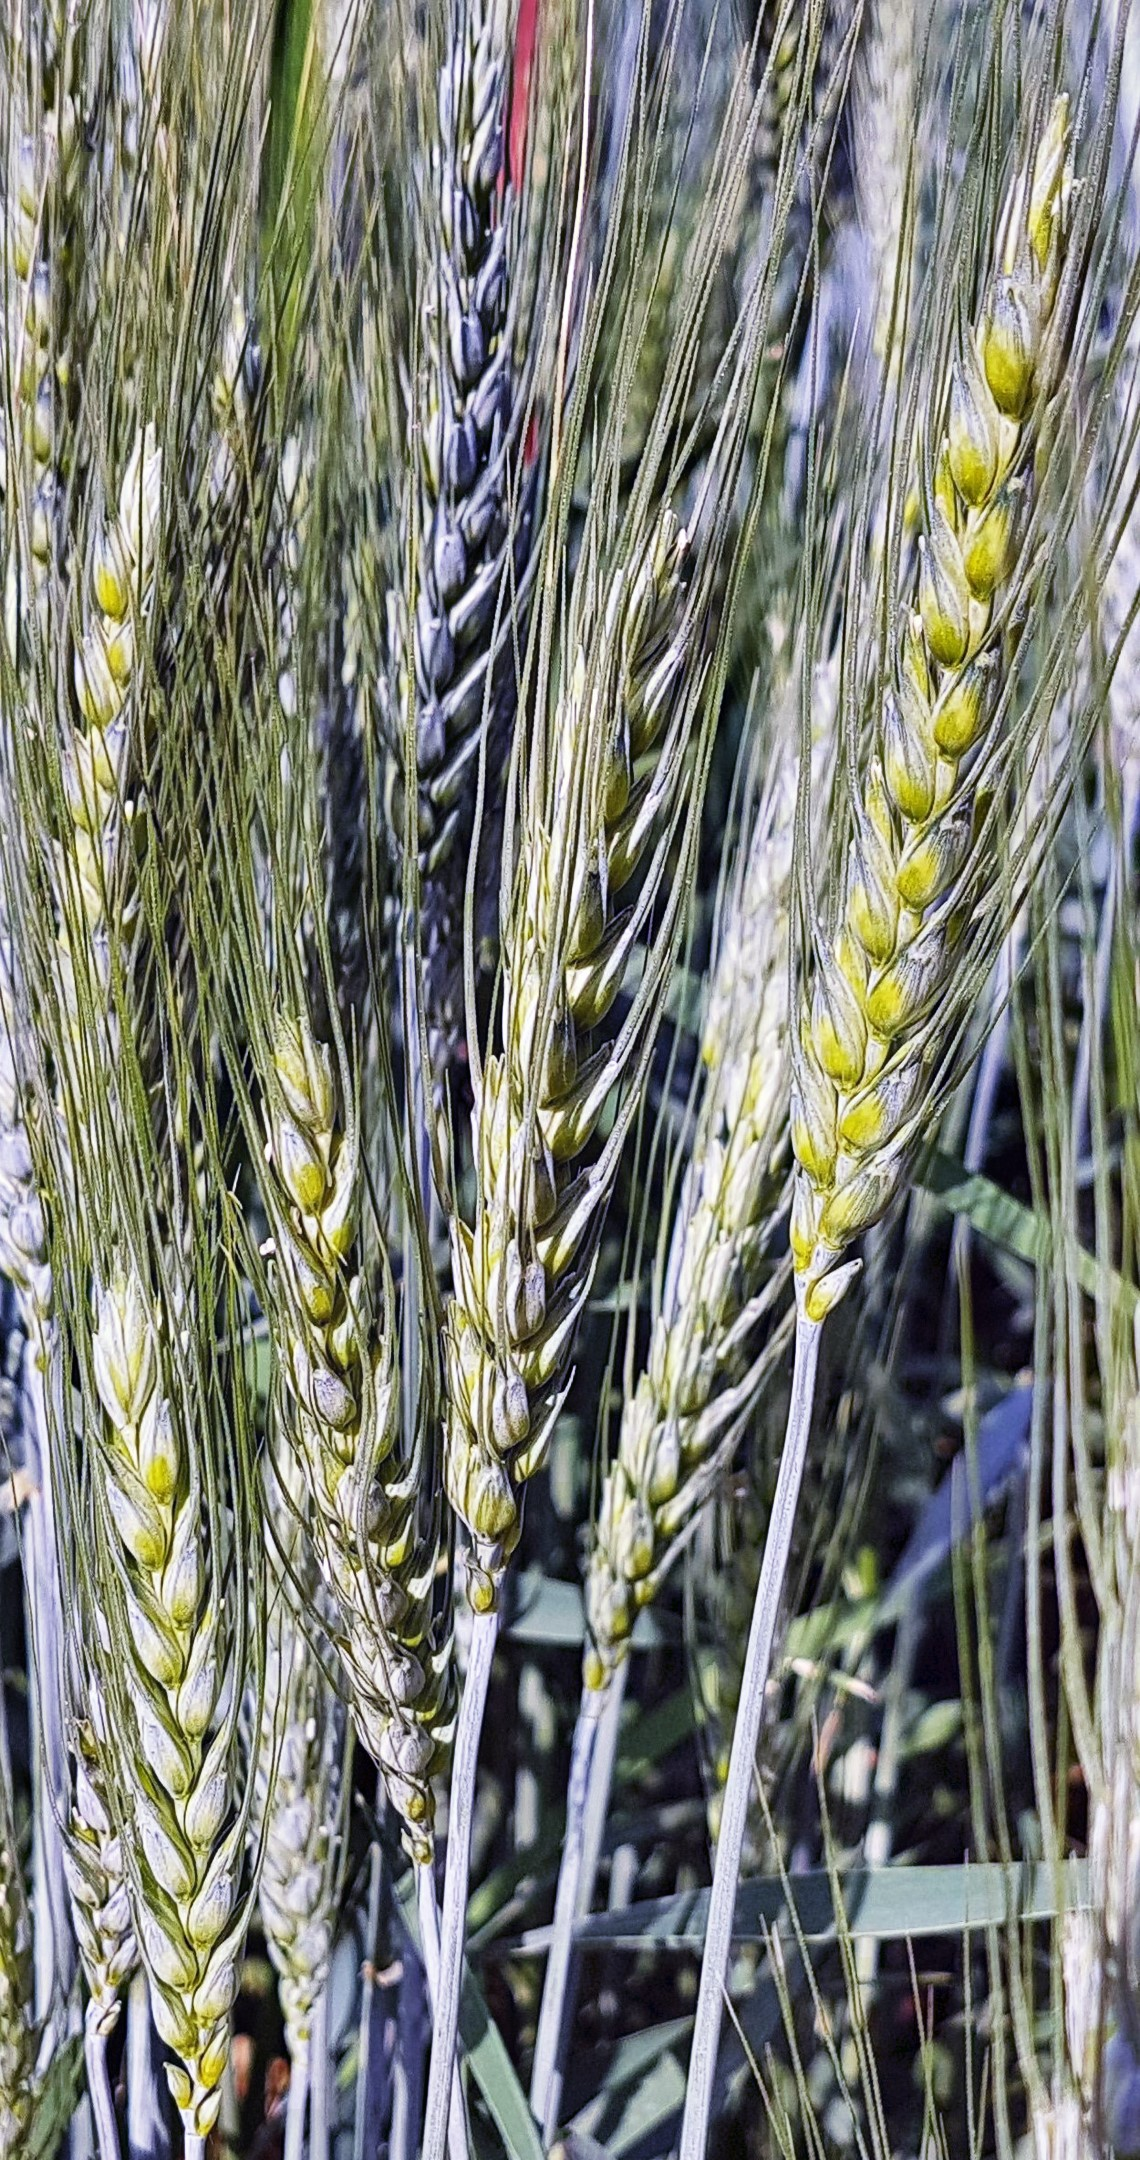Healthy Wheat: (776, 140, 1139, 1303), (439, 511, 724, 1570), (51, 1294, 299, 2110)
